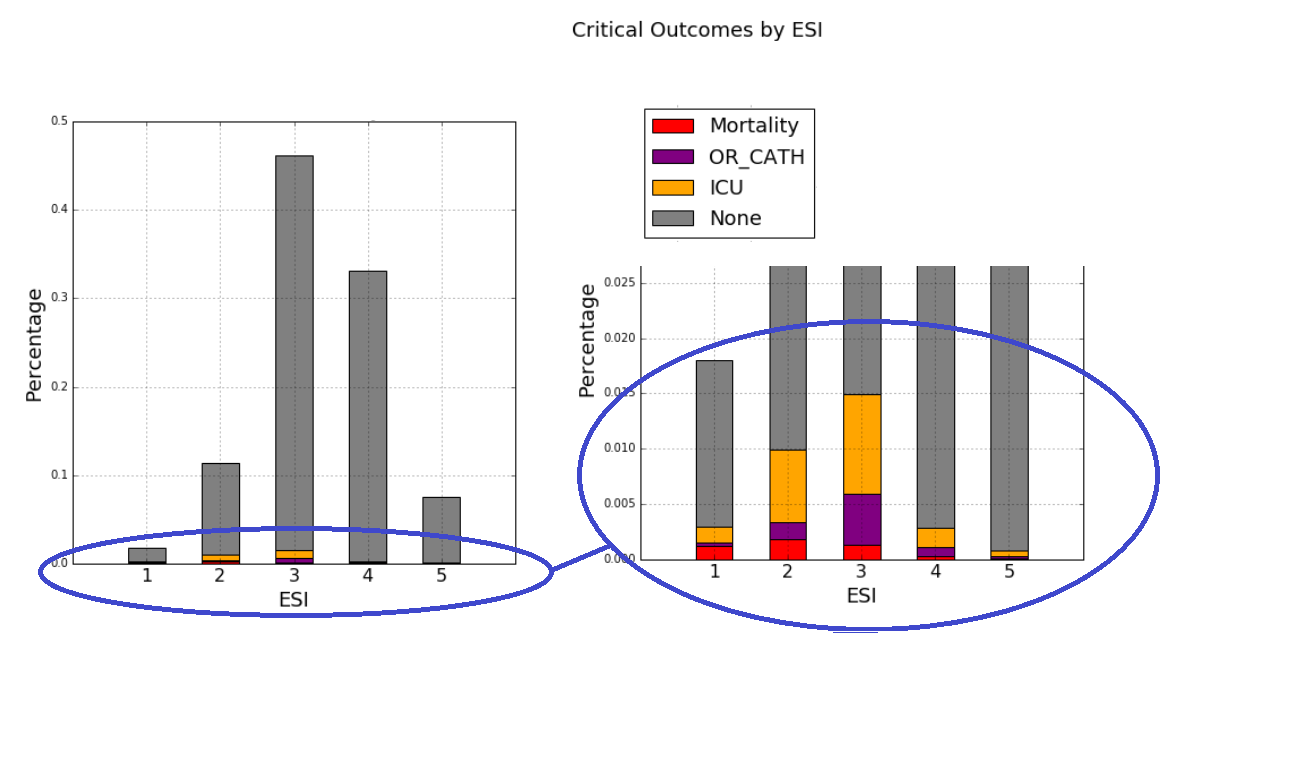

The page's visual inventory and layout, read from the dashboard file:
{"tool":"tableau","page":{"name":"Dashboard 2","canvas":[1000,1000],"units":"permille","ordinal":1},"visuals":[{"type":"title","box":[6,13.3,523,83.2]},{"type":"worksheet","title":"Critical Outcomes Proportion","mark":"Automatic","cols":["IMMEDR"],"box":[529,13.3,465.1,973.4]},{"type":"worksheet","title":"Critical Outcomes Proportion (2)","mark":"Automatic","rows":["Calculation_663155077068849152"],"cols":["IMMEDR"],"box":[6,96.5,523,221.3]},{"type":"legend","title":"Critical Outcomes Proportion","param":"[federated.0lqj8g704y7h201dtm8pb11lsept].[none:Calculation_663155077068849152:nk","box":[418.2,100.7,115,179.6]},{"type":"worksheet","title":"Critical Outcomes Proportion (3)","mark":"Automatic","cols":["IMMEDR"],"box":[6,317.8,523,668.9]}]}

Visuals, with their boxes on the dashboard's canvas, which has no fixed pixel size, in thousandths of its width and height (x1, y1, x2, y2). These are canvas units, not pixel positions in the 1300x781 screenshot, which may show the page scaled, cropped or inside an application window:
title: pyautogui.locateOnScreen(6, 13, 529, 96)
"Critical Outcomes Proportion" worksheet: pyautogui.locateOnScreen(529, 13, 994, 987)
"Critical Outcomes Proportion (2)" worksheet: pyautogui.locateOnScreen(6, 96, 529, 318)
"Critical Outcomes Proportion" legend: pyautogui.locateOnScreen(418, 101, 533, 280)
"Critical Outcomes Proportion (3)" worksheet: pyautogui.locateOnScreen(6, 318, 529, 987)
